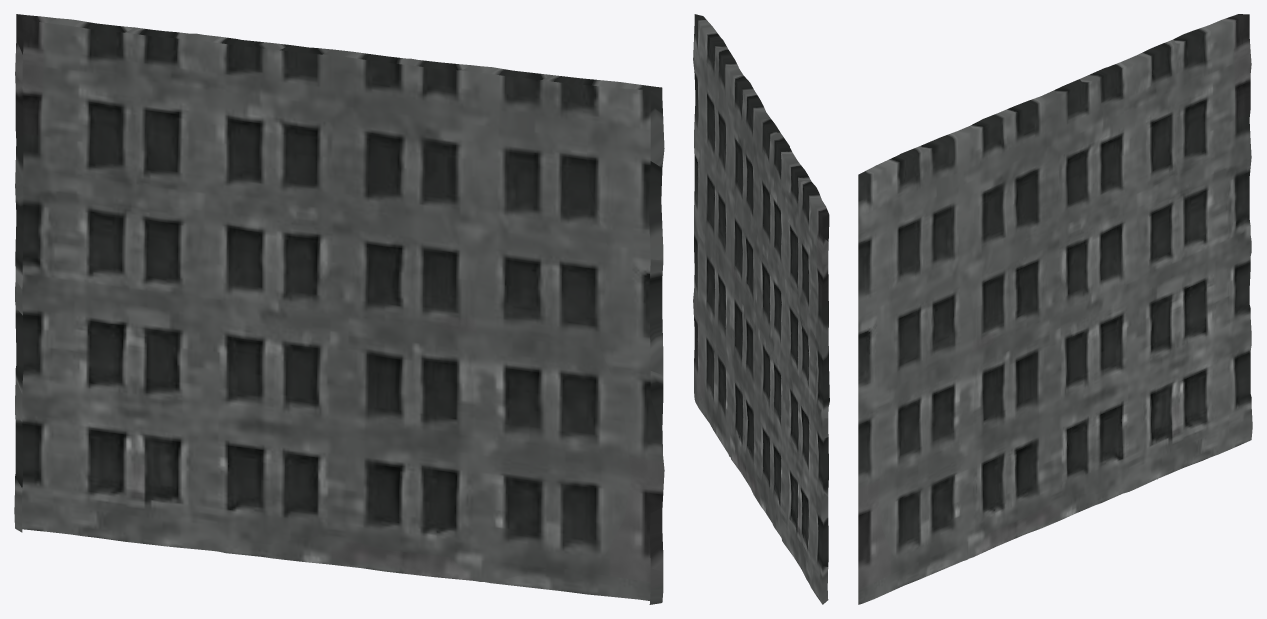
File: z20-167780-405231-h1-yup-uvflip-v3-world.glb
3 views of the same model, side by side, from view 1: azimuth 30°, elevation 25°; view 2: azimuth 150°, elevation 25°; view 3: azimuth 270°, elevation 25° (orthographic). The views are drawn at different scales.
Bounding box in the file's own units: 15.64 × 18.68 × 15.68.
Materials: 1 (1 with a texture image).
